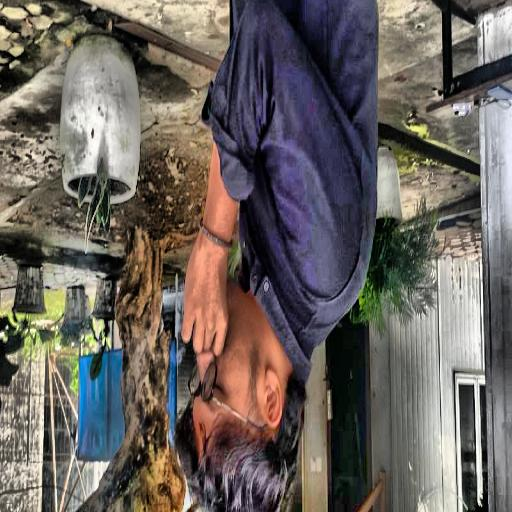Rokok: (177, 0, 379, 512)
